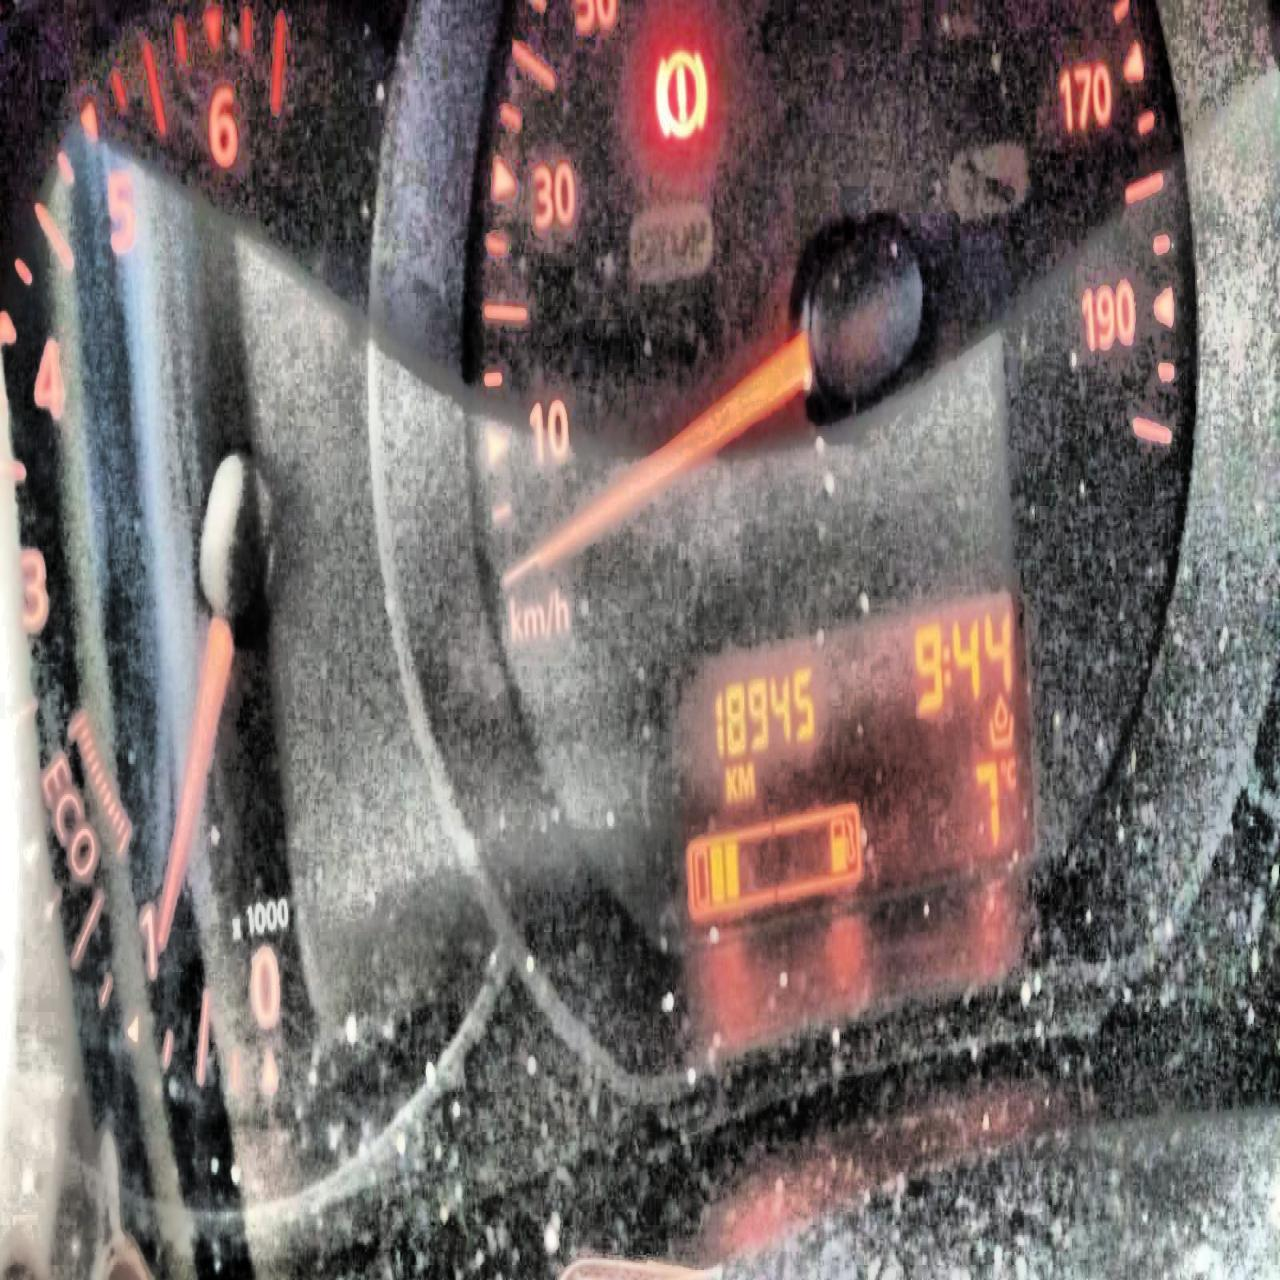1: (712, 682, 724, 758)
4: (952, 611, 982, 701), (985, 605, 1014, 690), (768, 665, 790, 745)
5: (795, 659, 816, 738)
7: (974, 754, 999, 849)
8: (724, 681, 745, 757)
9: (911, 618, 941, 721), (747, 674, 767, 754)
X: (737, 761, 754, 801), (723, 761, 737, 802), (940, 638, 949, 696), (1006, 756, 1016, 792)
odometer: (661, 574, 1046, 956)
